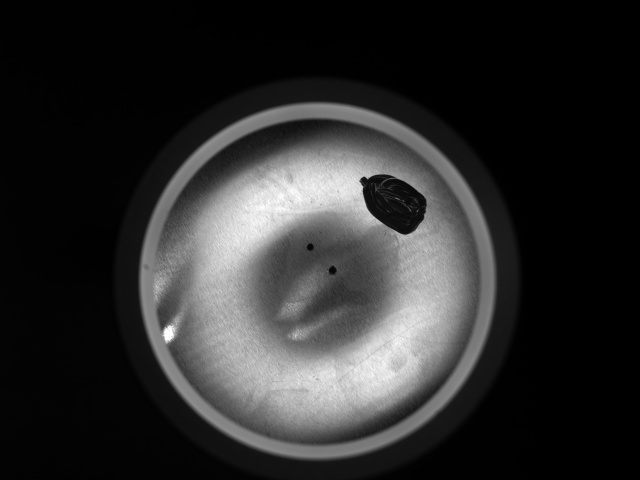zang_wu: (358, 172, 426, 233)
zhen_kong: (325, 259, 340, 278), (304, 241, 316, 254)
